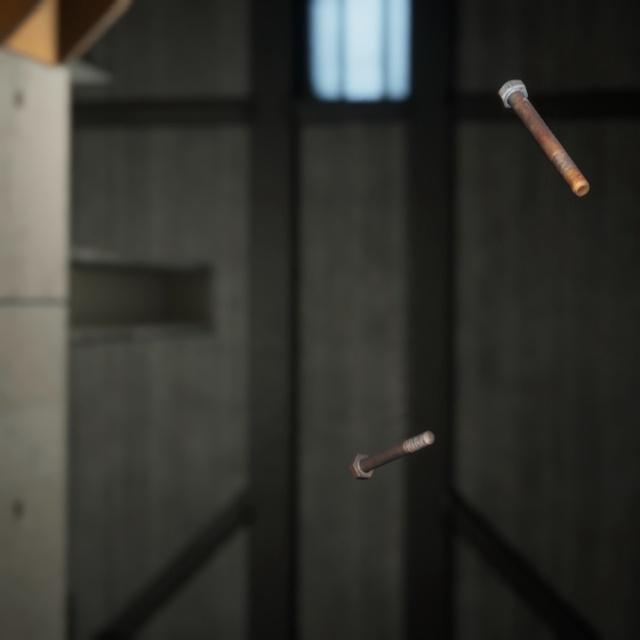bolt: (493, 63, 593, 187), (344, 406, 439, 465)
